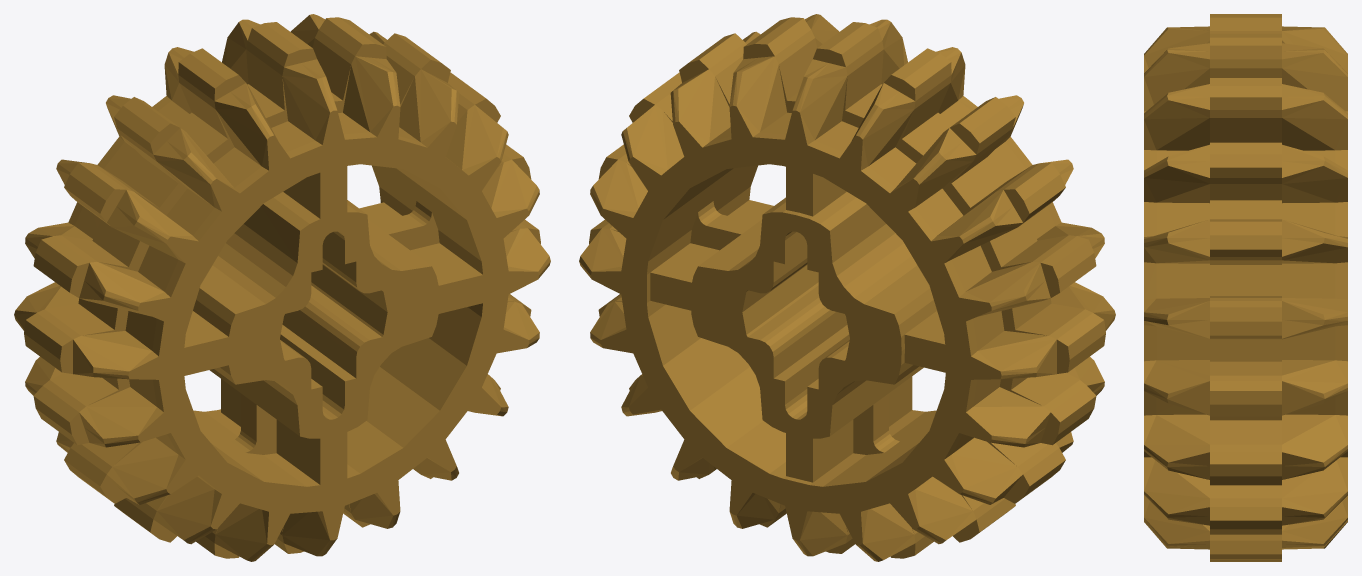
The model's file is 18575 Double Conical Wheel Z20 1M.dae.
3 renders of one model, left to right at view 1: azimuth 30°, elevation 25°; view 2: azimuth 150°, elevation 25°; view 3: azimuth 270°, elevation 25°, orthographic.
Visible parts, largest first — view 1: Part.0; view 2: Part.0; view 3: Part.0.
Part boxes in pixels (left/top/right/bottom): Part.0: left=14, top=14, right=550, bottom=561; Part.0: left=579, top=14, right=1115, bottom=561; Part.0: left=1144, top=14, right=1347, bottom=561.
Bounding box in the file's own units: 21.43 × 21.43 × 7.92.
